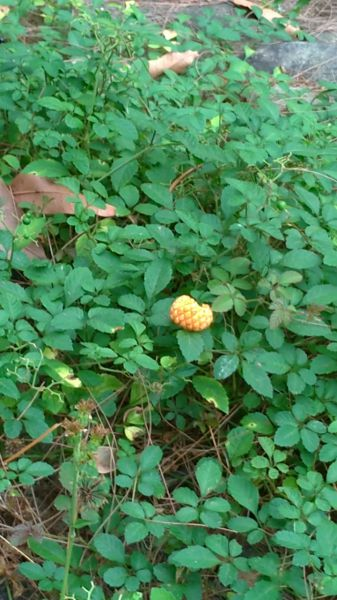eggs: (166, 294, 220, 339)
